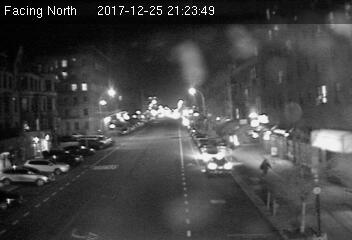car: (207, 153, 233, 172)
pedestrian: (258, 157, 271, 177)
